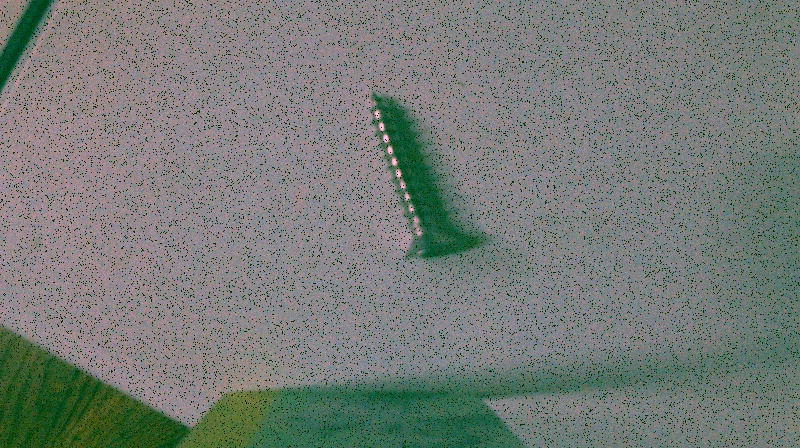S001: (366, 89, 453, 262)
